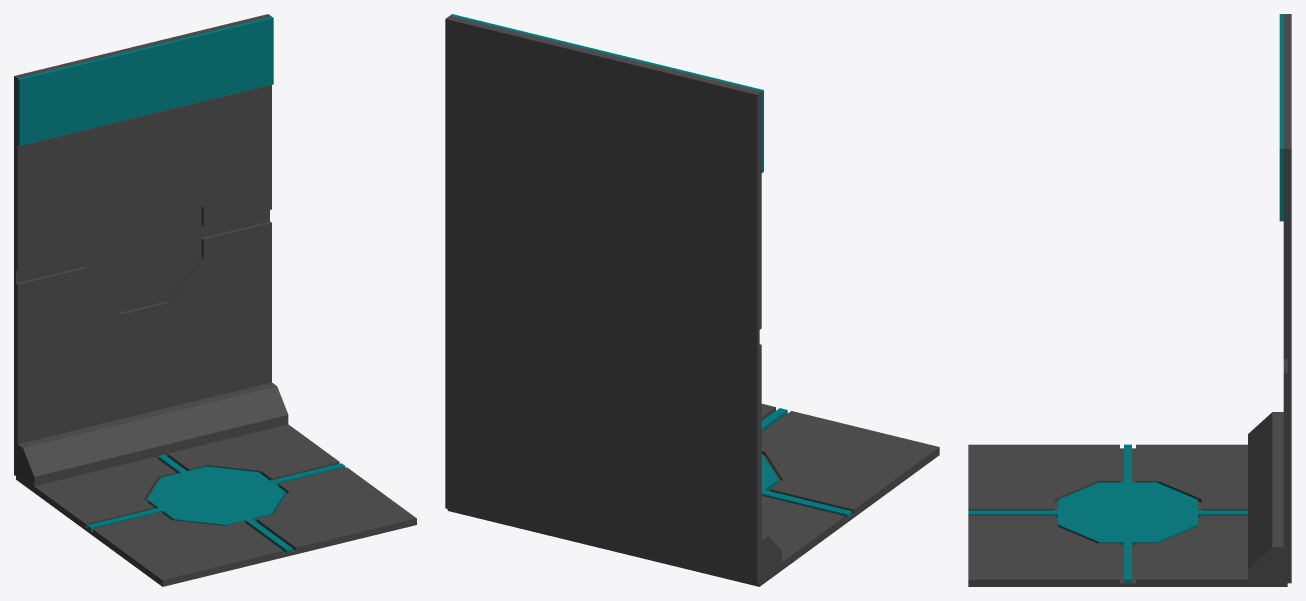
Rendered from Sci Fi Wall.glb.
3 renders of one model, left to right at view 1: azimuth 30°, elevation 25°; view 2: azimuth 150°, elevation 25°; view 3: azimuth 270°, elevation 25°, orthographic. The views are drawn at different scales.
Visible parts, largest first — view 1: Wall, Cube, Wall_Panel, Triangle_Connecter, Floor_Oct; view 2: Wall, Cube, Wall_Panel, Arm_2, Triangle_Connecter; view 3: Cube, Floor_Oct, Triangle_Connecter, Wall, Wall_Panel, Arm_4.
Boxes of the visible parts, left/top/right/bottom form: Wall: left=14, top=14, right=271, bottom=475; Cube: left=16, top=424, right=416, bottom=586; Wall_Panel: left=17, top=16, right=273, bottom=146; Triangle_Connecter: left=16, top=382, right=288, bottom=488; Floor_Oct: left=147, top=466, right=285, bottom=526; Wall: left=445, top=15, right=761, bottom=584; Cube: left=447, top=404, right=939, bottom=586; Wall_Panel: left=450, top=14, right=763, bottom=172; Arm_2: left=761, top=490, right=851, bottom=518; Triangle_Connecter: left=760, top=534, right=781, bottom=581; Cube: left=968, top=444, right=1287, bottom=586; Floor_Oct: left=1058, top=482, right=1197, bottom=545; Triangle_Connecter: left=1248, top=412, right=1286, bottom=579; Wall: left=1283, top=14, right=1291, bottom=583; Wall_Panel: left=1279, top=14, right=1283, bottom=221; Arm_4: left=968, top=510, right=1057, bottom=517.
Bounding box in the file's own units: 4 × 6.05 × 4.05.
